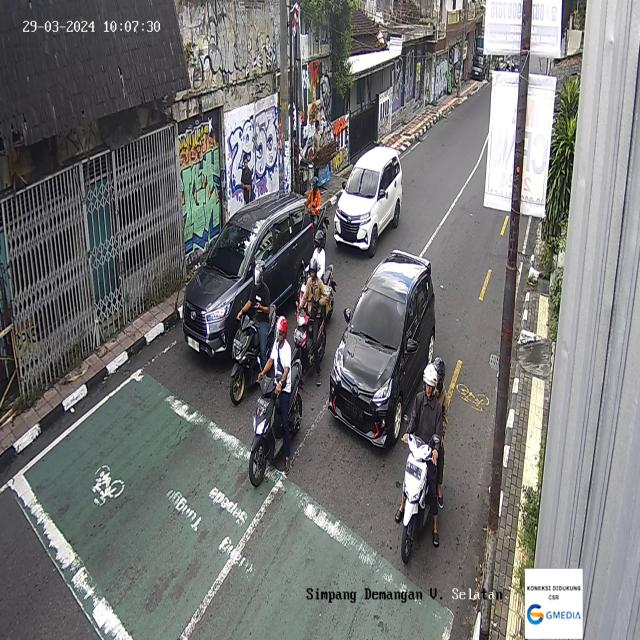car: (182, 189, 317, 360), (328, 249, 436, 449), (333, 145, 402, 257)
motorcycle: (395, 357, 447, 564), (248, 314, 303, 488), (229, 264, 279, 404), (292, 258, 327, 388), (296, 225, 335, 322), (303, 174, 330, 248)
